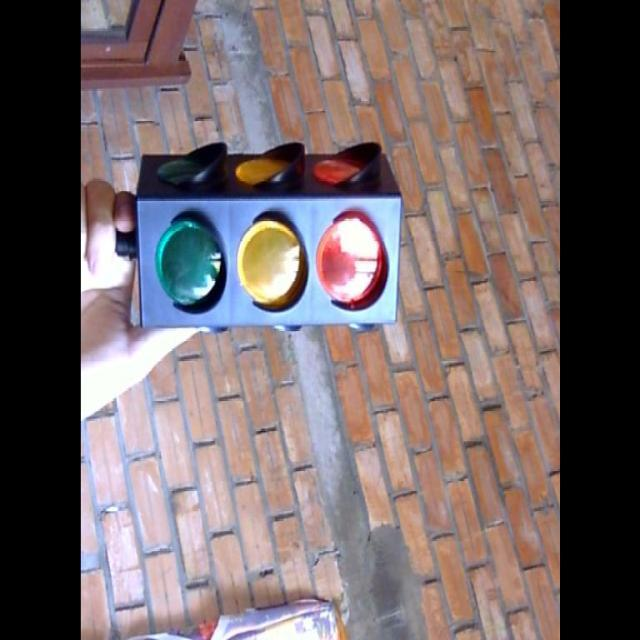red light: (306, 198, 394, 315)
